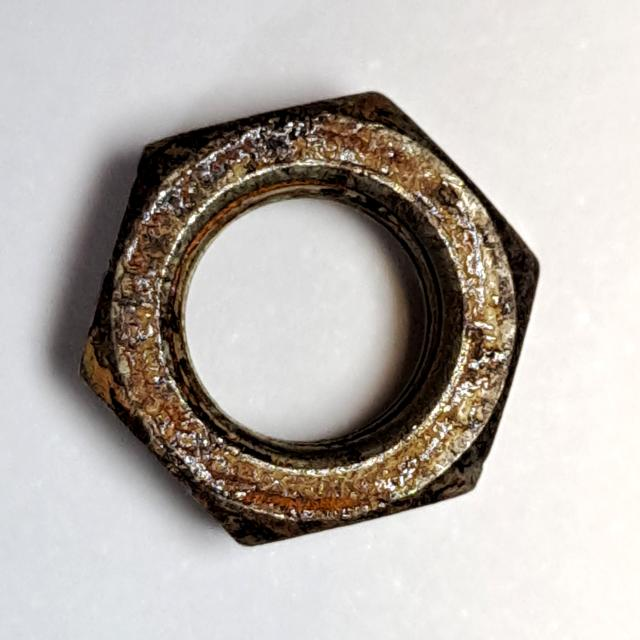Rust: (66, 83, 548, 557)
